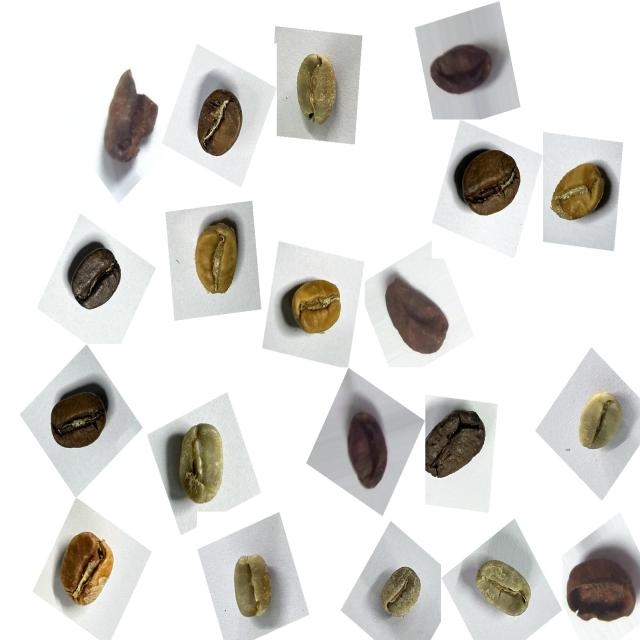bad: (92, 62, 165, 176), (561, 534, 640, 636), (377, 268, 457, 368), (422, 28, 499, 112), (336, 400, 399, 500)
dark: (415, 399, 495, 494), (61, 234, 133, 325)
green: (163, 410, 239, 517), (282, 41, 352, 145), (464, 549, 540, 634), (220, 544, 286, 633), (566, 382, 634, 468), (369, 558, 432, 634)
light: (47, 518, 125, 620), (181, 208, 250, 307), (543, 148, 614, 236), (277, 266, 351, 349)
medium: (448, 138, 531, 233), (40, 378, 116, 463), (186, 77, 255, 170)
